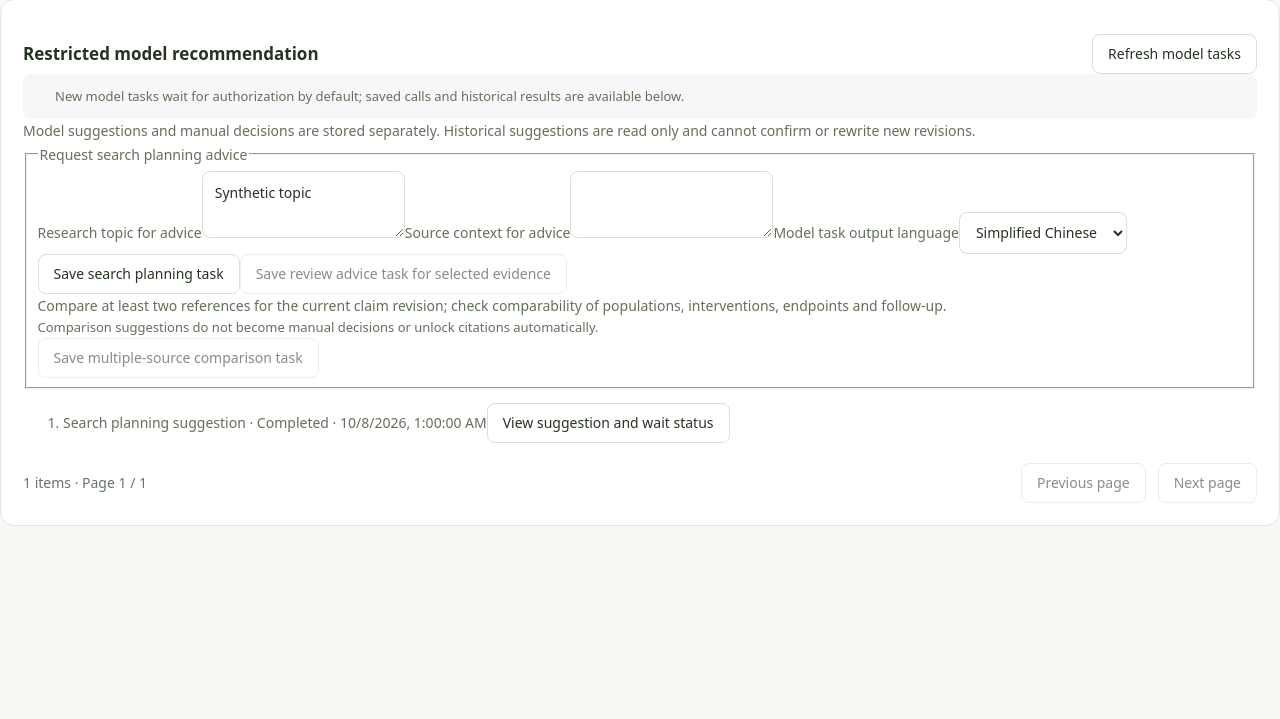
shows saved suggestions with readable revision scope and no internal digest in en
Click the button "View suggestion and wait status" at point(608, 423), box 487,403 -> 730,443
(page scrolled)
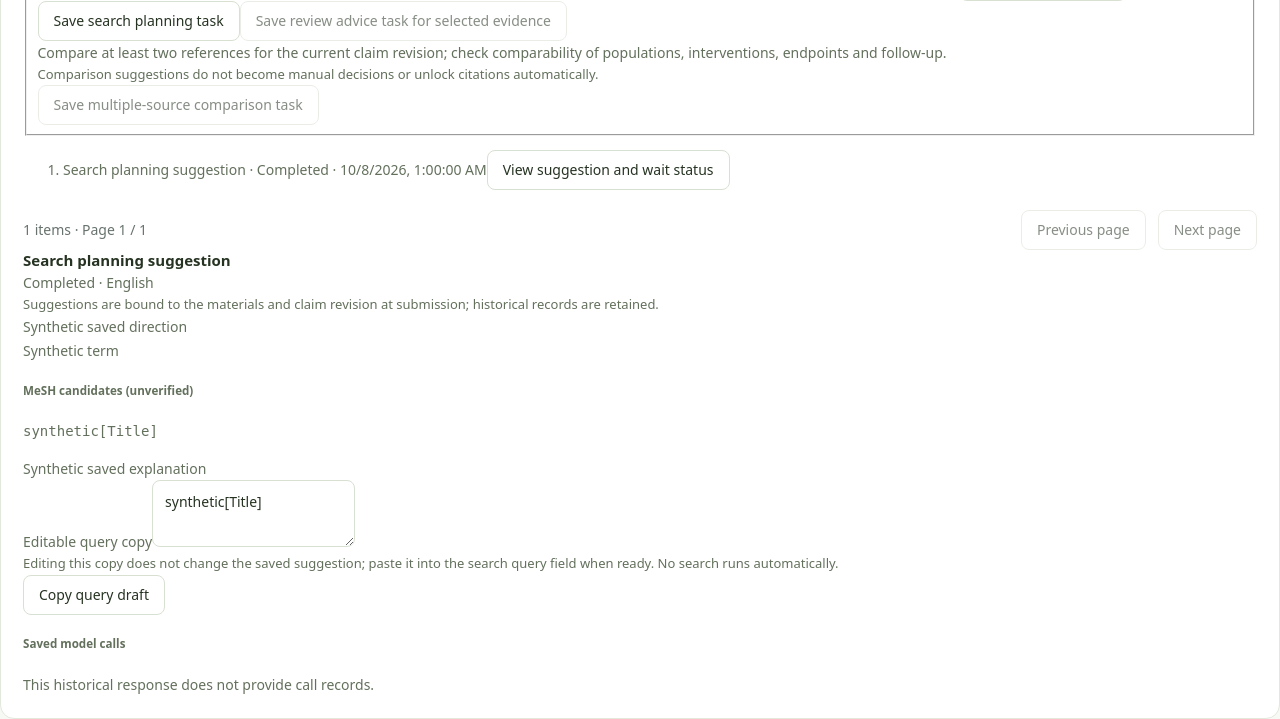
Check: the text "Synthetic saved direction" is shown, box 23,317 -> 187,336
Check: the text "Suggestions are bound to the materials and claim revision at submission; historical records are retained." is shown, box 23,295 -> 659,313
Check: the text "Synthetic saved explanation" is shown, box 23,459 -> 206,478
